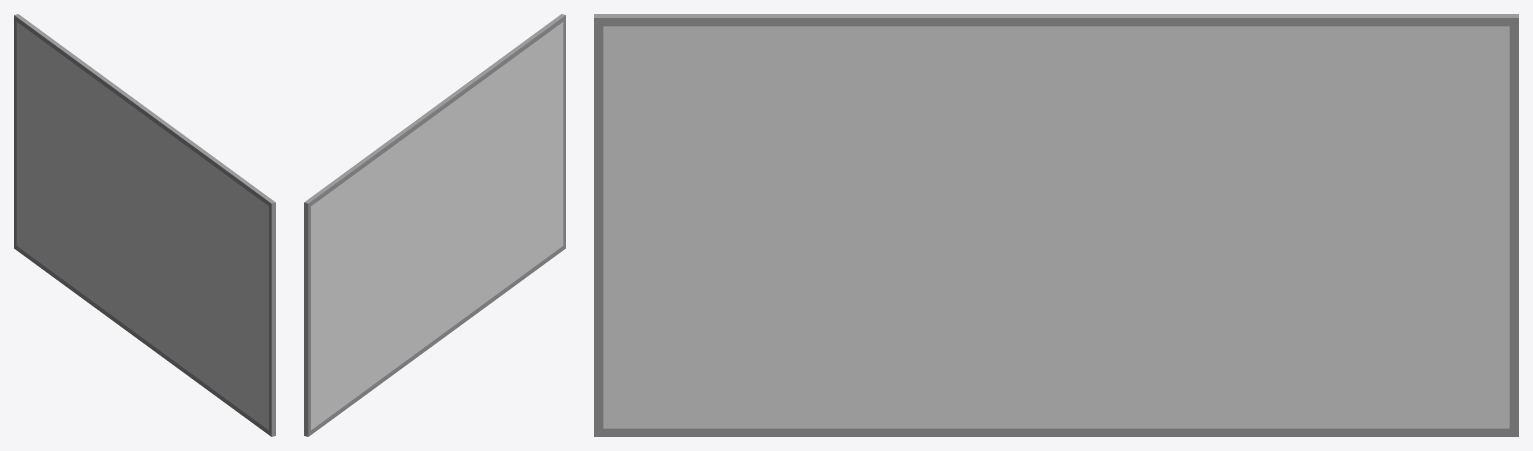
Rendered from SchoolPack-55-slate.obj.
3 views of the same model, side by side, from view 1: azimuth 30°, elevation 25°; view 2: azimuth 150°, elevation 25°; view 3: azimuth 270°, elevation 25° (orthographic). The views are drawn at different scales.
Visible parts, largest first — view 1: slate; view 2: slate; view 3: slate.
Part boxes in pixels (x1,y1,x2,y2): slate: (14,14,275,436); slate: (304,14,565,436); slate: (594,14,1518,436).
Size of the model in its own units: 0.1 by 5 by 10.
Materials: 1 (1 with a texture image).
